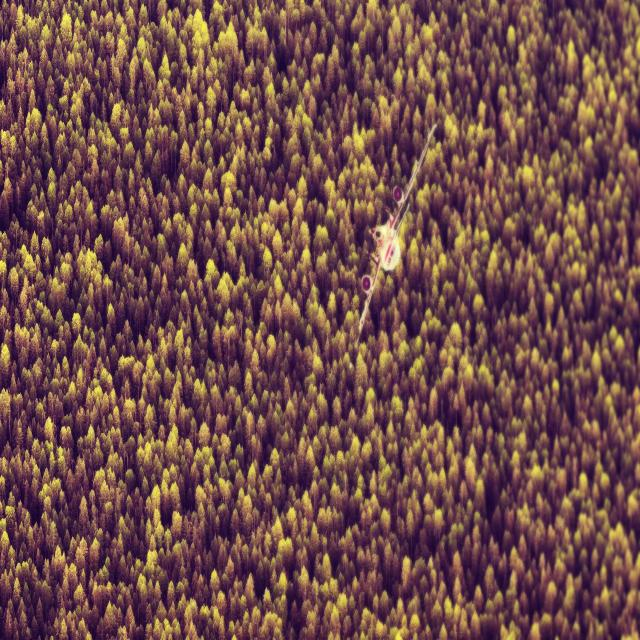airplane: (356, 121, 438, 344)
